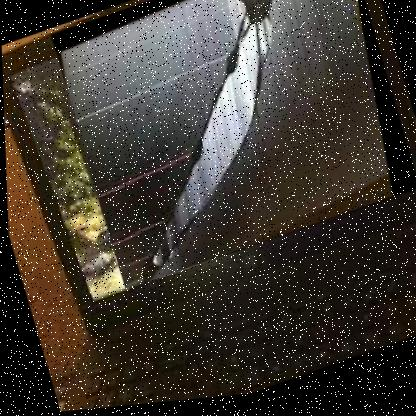crack: (48, 0, 415, 299)
